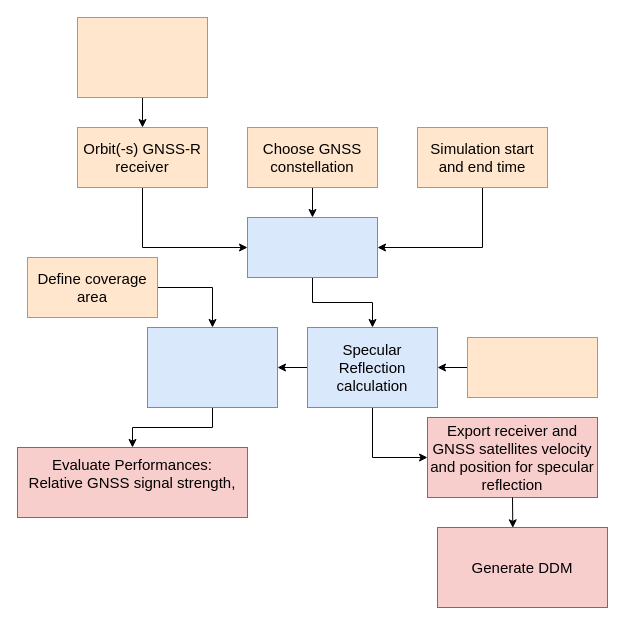
Some shapes in this 625 by 625 pixel diagram are drawn without their labels. Here are the shapes that lost their labels. From the top down, the box of each, then its label:
(76, 16, 208, 98): Selecting orbits for GNSS-R constellation
(246, 216, 378, 278): Propagation of Satellite orbits
(146, 326, 278, 408): Coverage calculation
(466, 336, 598, 398): Choose Spherical or elliptical Earth
